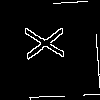X: (24, 24, 76, 61)
